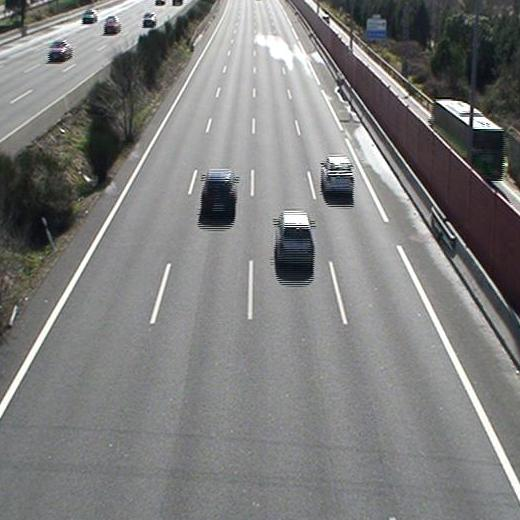car: (274, 209, 315, 268), (200, 169, 237, 215), (320, 156, 355, 197)
